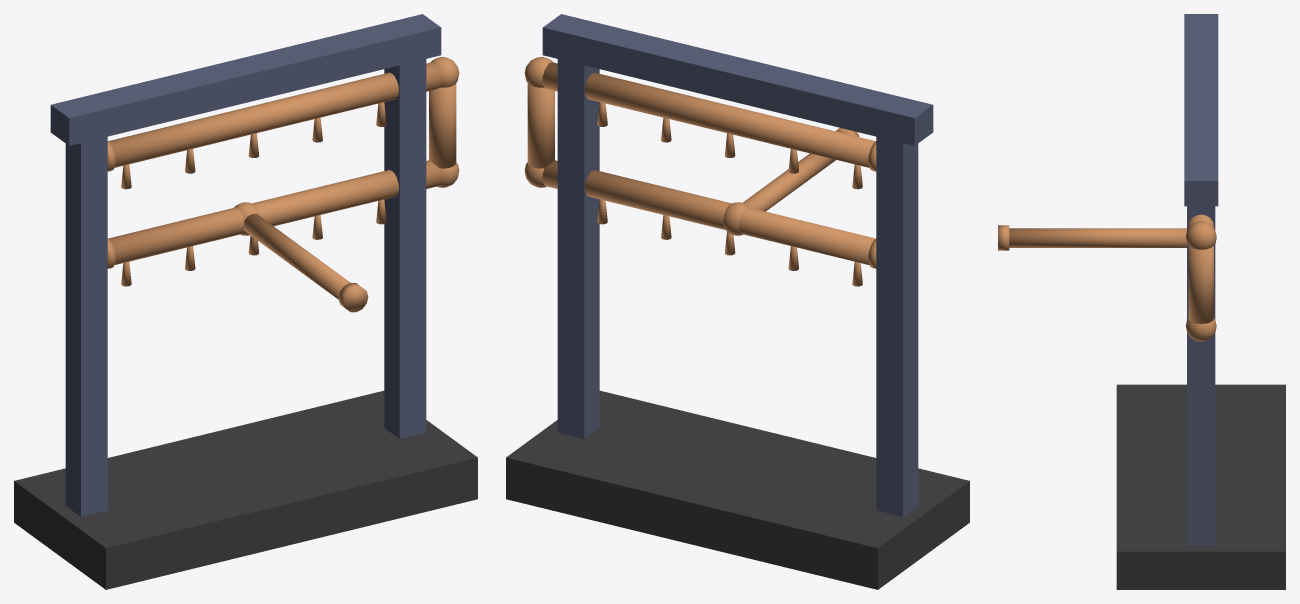
File: DvergrDripPipes.fbx
The picture shows the model from 3 angles, left to right: view 1: azimuth 30°, elevation 25°; view 2: azimuth 150°, elevation 25°; view 3: azimuth 270°, elevation 25°; orthographic projection. The views are drawn at different scales.
Visible parts, largest first — view 1: ext_pipes_base, ext_pipes_frame, ext_pipes_copper; view 2: ext_pipes_base, ext_pipes_frame, ext_pipes_copper; view 3: ext_pipes_base, ext_pipes_frame, ext_pipes_copper.
Boxes of the visible parts, <box> form: ext_pipes_base: <box>14,390,477,589</box>; ext_pipes_frame: <box>50,14,441,516</box>; ext_pipes_copper: <box>107,57,459,312</box>; ext_pipes_base: <box>506,390,969,589</box>; ext_pipes_frame: <box>542,14,933,516</box>; ext_pipes_copper: <box>524,57,876,286</box>; ext_pipes_base: <box>1116,384,1285,589</box>; ext_pipes_frame: <box>1184,14,1218,545</box>; ext_pipes_copper: <box>998,214,1216,341</box>.
Size of the model in its own units: 1.5 by 1.6 by 1.02.
